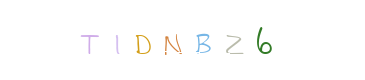6: (222, 0, 302, 80)
B: (162, 0, 242, 80)
D: (119, 0, 199, 80)
I: (115, 0, 195, 80)
N: (142, 0, 222, 80)
T: (101, 0, 181, 80)
Z: (204, 0, 284, 80)
